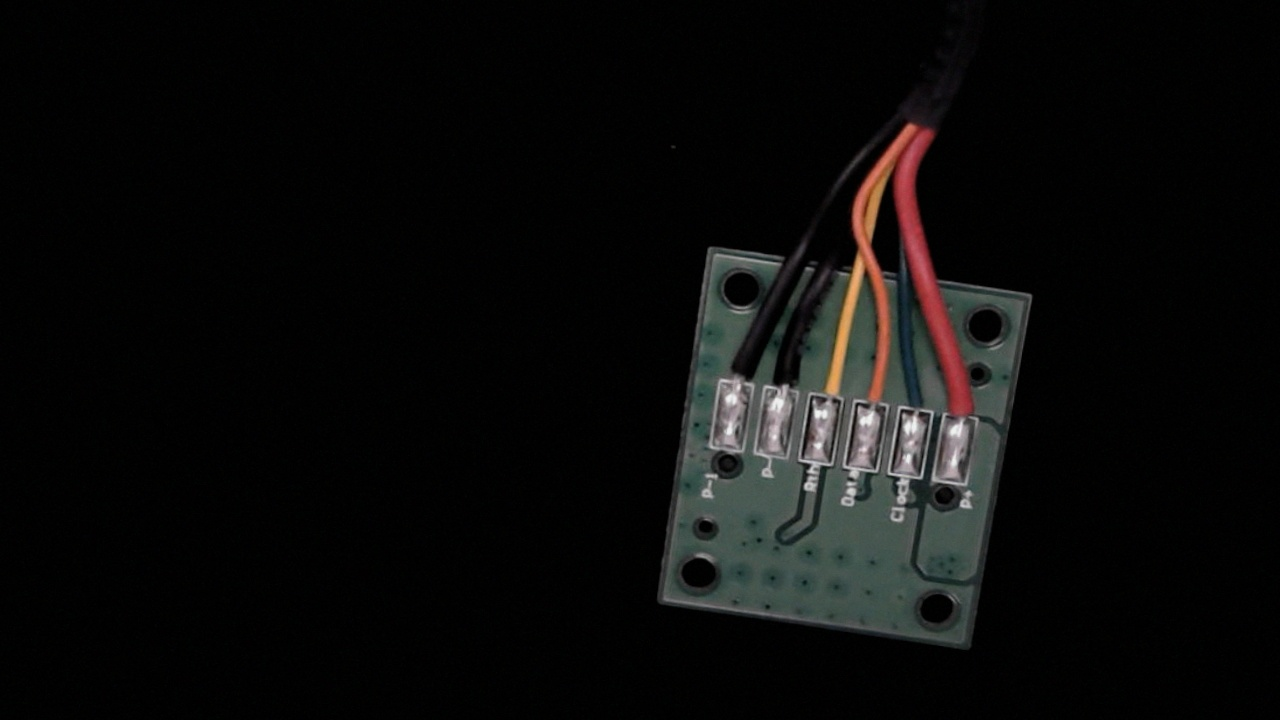Black: (761, 323, 814, 410)
Black1: (715, 324, 765, 403)
Green: (890, 351, 943, 434)
Orange: (848, 341, 898, 425)
Red: (939, 353, 991, 436)
Yellow: (803, 331, 855, 418)
